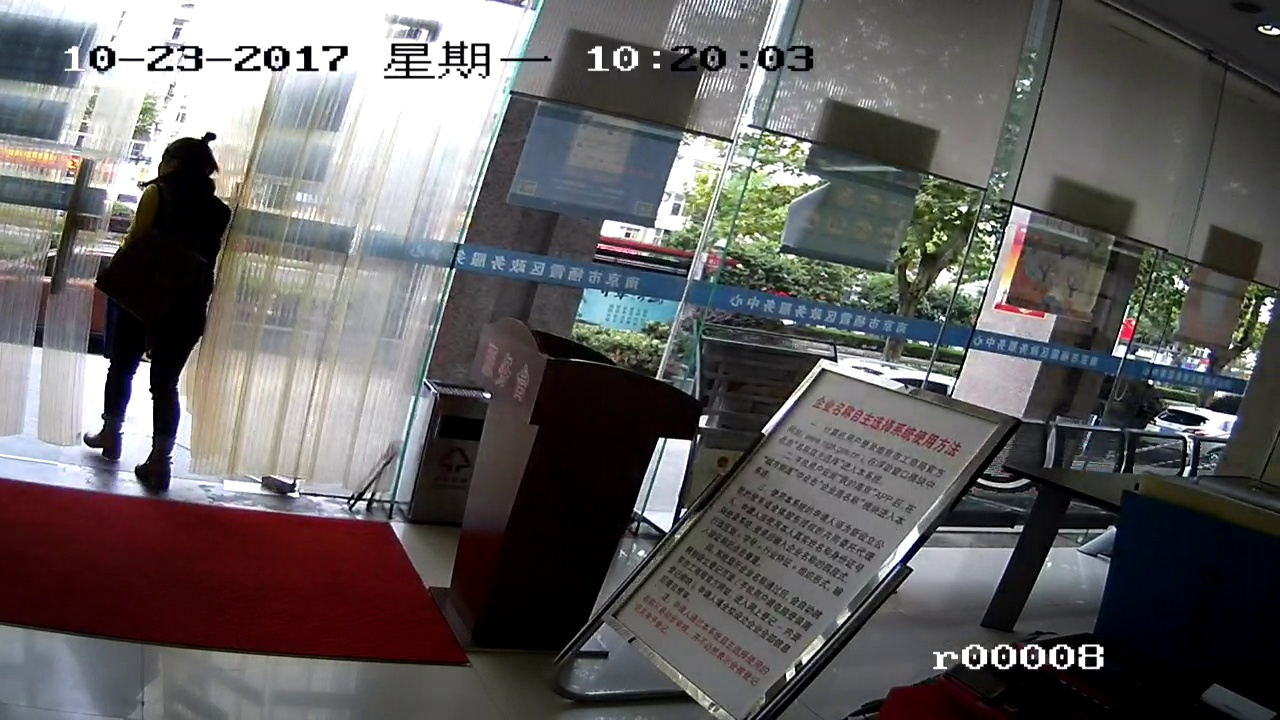billboard: (678, 355, 1002, 714)
desk: (480, 321, 618, 656)
person: (105, 140, 215, 493)
